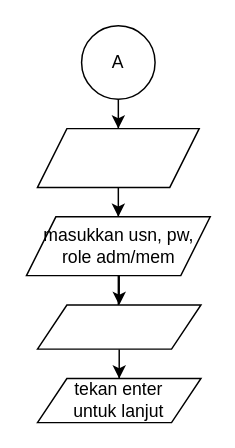
Image size: 235x448. Some labels were removed from this diagram. The shapes that lost their labels are listed below. From the top down, each one's centre as x and y in pixels, then its label:
At point 117,157: "register akun baru".
At point 118,326: "akun berhasil dibuat".
